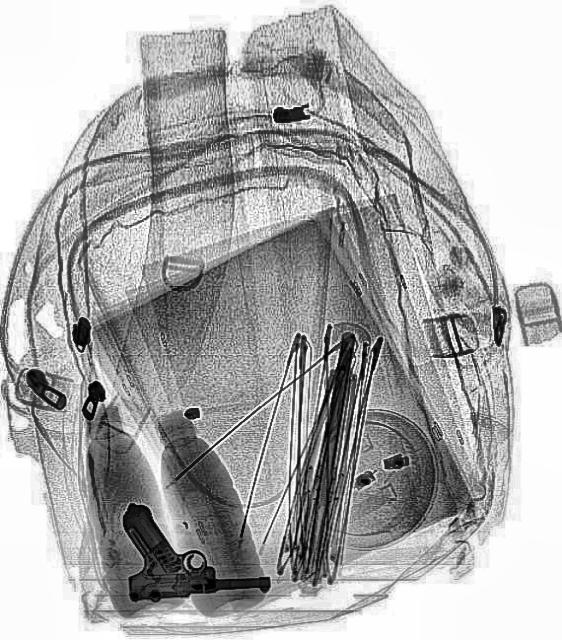Gun: (118, 493, 270, 602)
